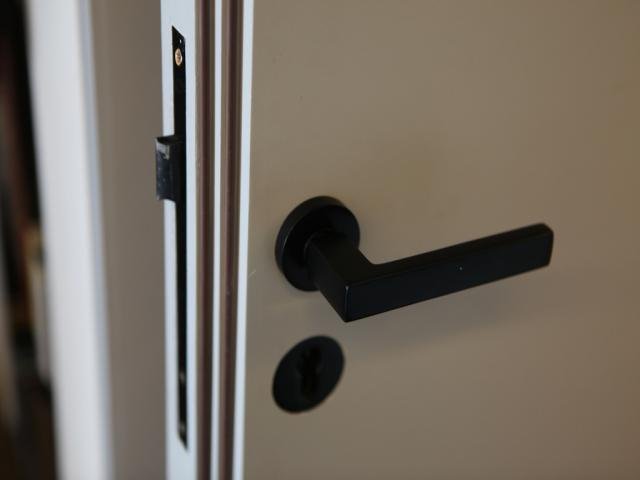Door-handle: (275, 195, 554, 324)
